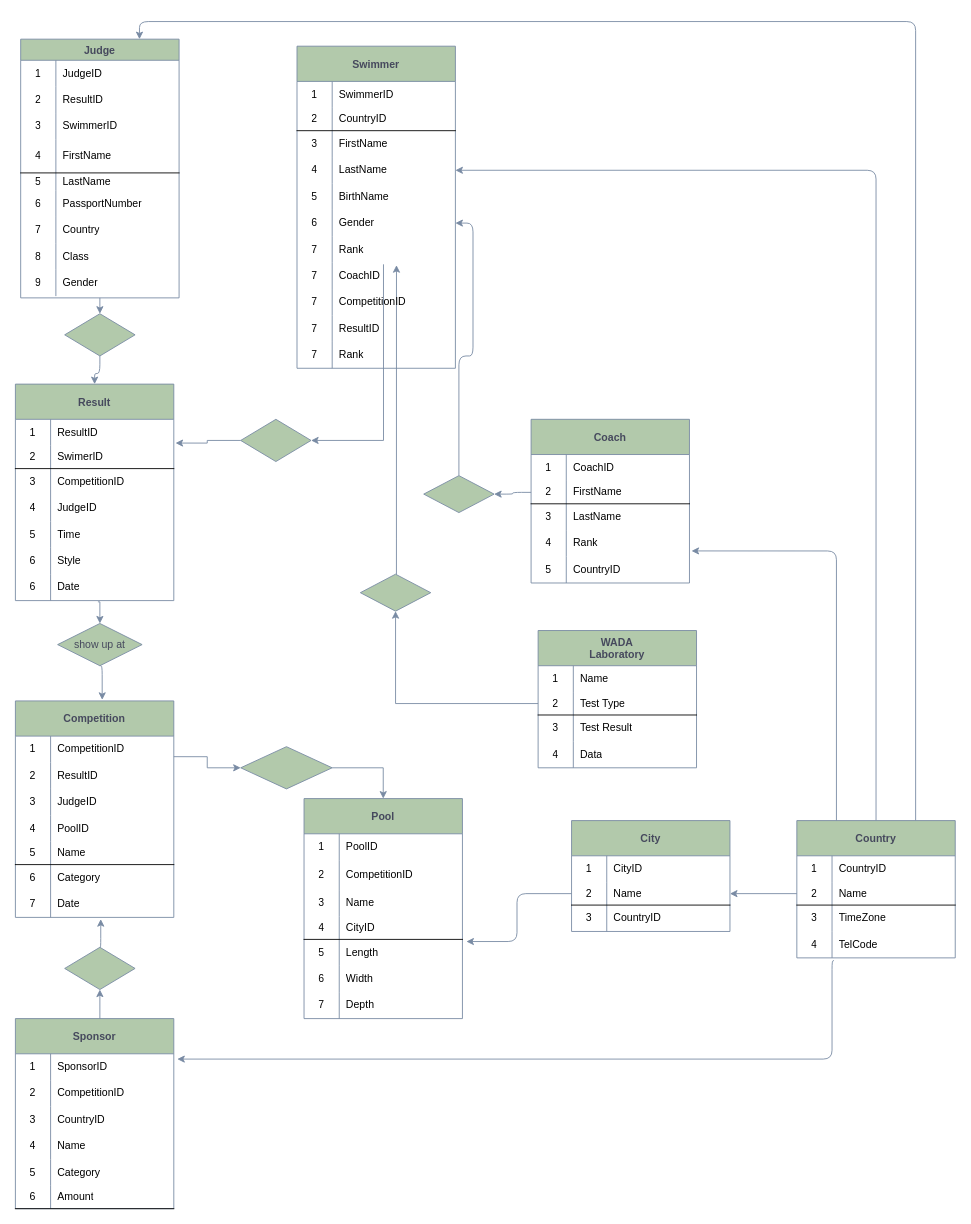
The diagram is 971 pixels wide and 1224 high, and some of its shapes have lost their labels. Each missing label, with the centre of its shape:
"approves" goes at pixel 99 334.
"has" goes at pixel 275 440.
"sponsors" goes at pixel 99 968.
"takes place in" goes at pixel 286 767.
"tests" goes at pixel 395 592.
"work with" goes at pixel 458 494.
